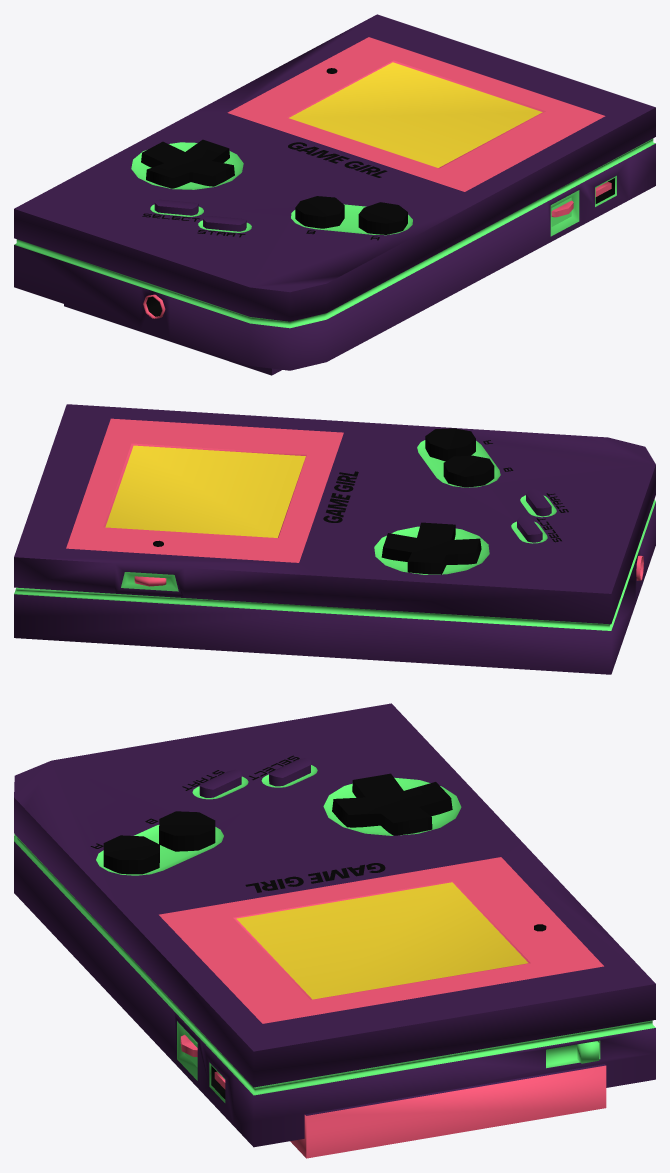
Rendered from ToyObject_050.fbx.
3 views of the same model, one above another, from view 1: azimuth 30°, elevation 25°; view 2: azimuth 150°, elevation 25°; view 3: azimuth 270°, elevation 25° (orthographic). The views are drawn at different scales.
Parts seen in each view (by area): view 1: 1.028; view 2: 1.028; view 3: 1.028.
Part boxes in pixels (x1,y1,x2,y2): 1.028: [14, 14, 655, 375]; 1.028: [14, 404, 655, 674]; 1.028: [14, 703, 655, 1158].
Bounding box in the file's own units: 0.2093 × 0.0354 × 0.1631.
